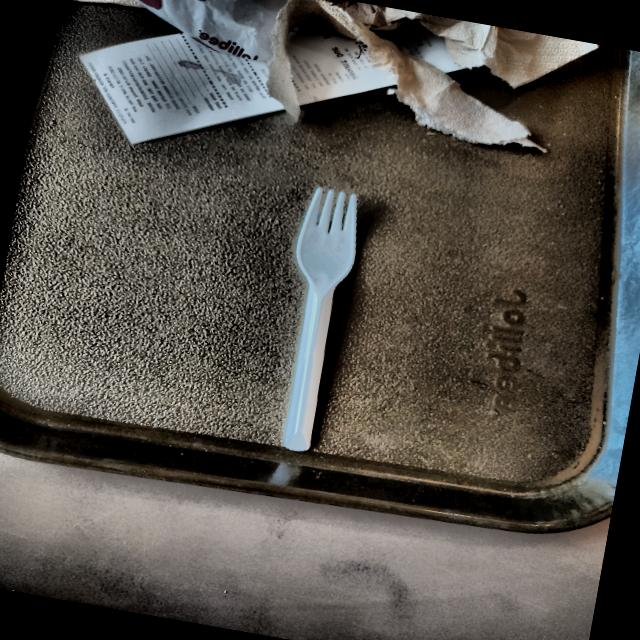plastic utensil: (283, 187, 356, 450)
